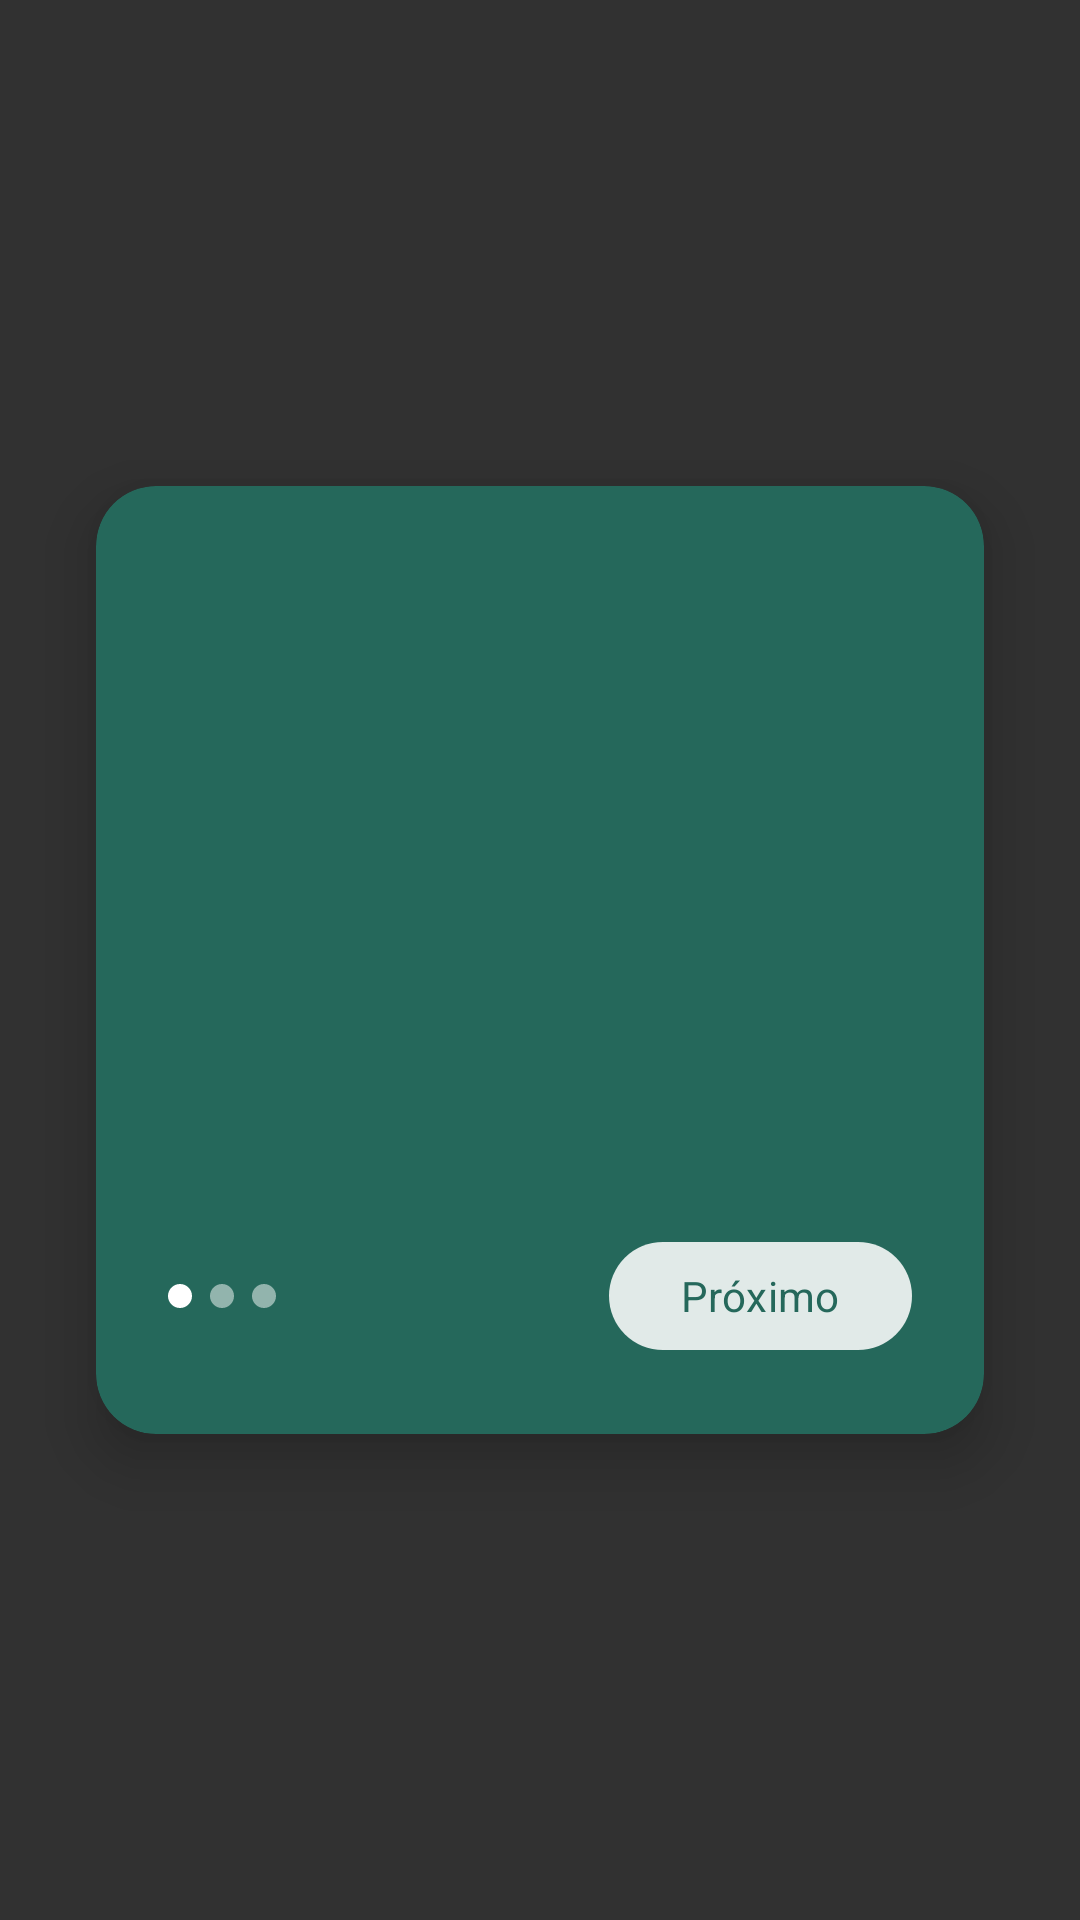

Where icons sit on this 1080×1920 app screen, as (x1,y1,x2,y2):
indicator dot: (168,1284,192,1308), (210,1284,234,1308), (252,1284,276,1308)
